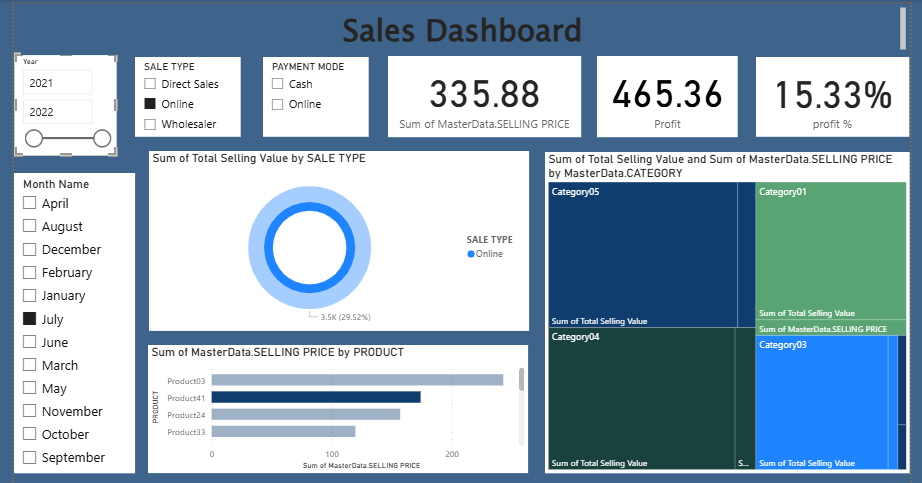

The dashboard page shown, as its layout file describes it:
{"tool":"powerbi","page":{"name":"Page 1","canvas":[1280,720],"ordinal":0},"visuals":[{"type":"slicer","fields":{"Values":["InputData.Year"]},"box":[0,70,147.1,147.1],"z":0},{"type":"slicer","fields":{"Values":["InputData.Month Name"]},"box":[0,241.4,172.9,428.6],"z":1000},{"type":"slicer","fields":{"Values":["InputData.SALE TYPE"]},"box":[172.9,75.7,151.4,114.3],"z":2000},{"type":"slicer","fields":{"Values":["InputData.PAYMENT MODE"]},"box":[355.7,75.7,151.4,114.3],"z":3000},{"type":"card","fields":{"Values":["InputData.Profit"]},"box":[832.9,74.3,201.4,115.7],"z":4000},{"type":"card","fields":{"Values":["InputData.profit %"]},"box":[1060,75.7,218.6,114.3],"z":5000},{"type":"barChart","fields":{"Y":["Sum(InputData.MasterData.SELLING PRICE)"],"Category":["MasterData.PRODUCT"]},"box":[191.4,487.1,542.9,182.9],"z":6000},{"type":"donutChart","fields":{"Y":["Sum(InputData.Total Selling Value)"],"Category":["InputData.SALE TYPE"]},"box":[192.9,210,542.9,257.1],"z":7000},{"type":"treemap","fields":{"Group":["InputData.MasterData.CATEGORY"],"Values":["Sum(InputData.Total Selling Value)","Sum(InputData.MasterData.SELLING PRICE)"]},"box":[758.6,211.4,521.4,458.6],"z":8000},{"type":"textbox","box":[10,0,1268.6,72.9],"z":9000},{"type":"card","fields":{"Values":["Sum(InputData.MasterData.SELLING PRICE)"]},"box":[534.3,74.3,275.7,115.7],"z":10000}]}

Visuals, with their boxes on the page's 1280x720 design canvas (x1, y1, x2, y2). These are canvas units, not pixel positions in the 922x483 screenshot, which may show the page scaled, cropped or inside an application window:
slicer - InputData.Year: [left=0, top=70, right=147, bottom=217]
slicer - InputData.Month Name: [left=0, top=241, right=173, bottom=670]
slicer - InputData.SALE TYPE: [left=173, top=76, right=324, bottom=190]
slicer - InputData.PAYMENT MODE: [left=356, top=76, right=507, bottom=190]
card - InputData.Profit: [left=833, top=74, right=1034, bottom=190]
card - InputData.profit %: [left=1060, top=76, right=1279, bottom=190]
barChart - Sum(InputData.MasterData.SELLING PRICE) x MasterData.PRODUCT: [left=191, top=487, right=734, bottom=670]
donutChart - Sum(InputData.Total Selling Value) x InputData.SALE TYPE: [left=193, top=210, right=736, bottom=467]
treemap - InputData.MasterData.CATEGORY x Sum(InputData.Total Selling Value): [left=759, top=211, right=1280, bottom=670]
textbox: [left=10, top=0, right=1279, bottom=73]
card - Sum(InputData.MasterData.SELLING PRICE): [left=534, top=74, right=810, bottom=190]
